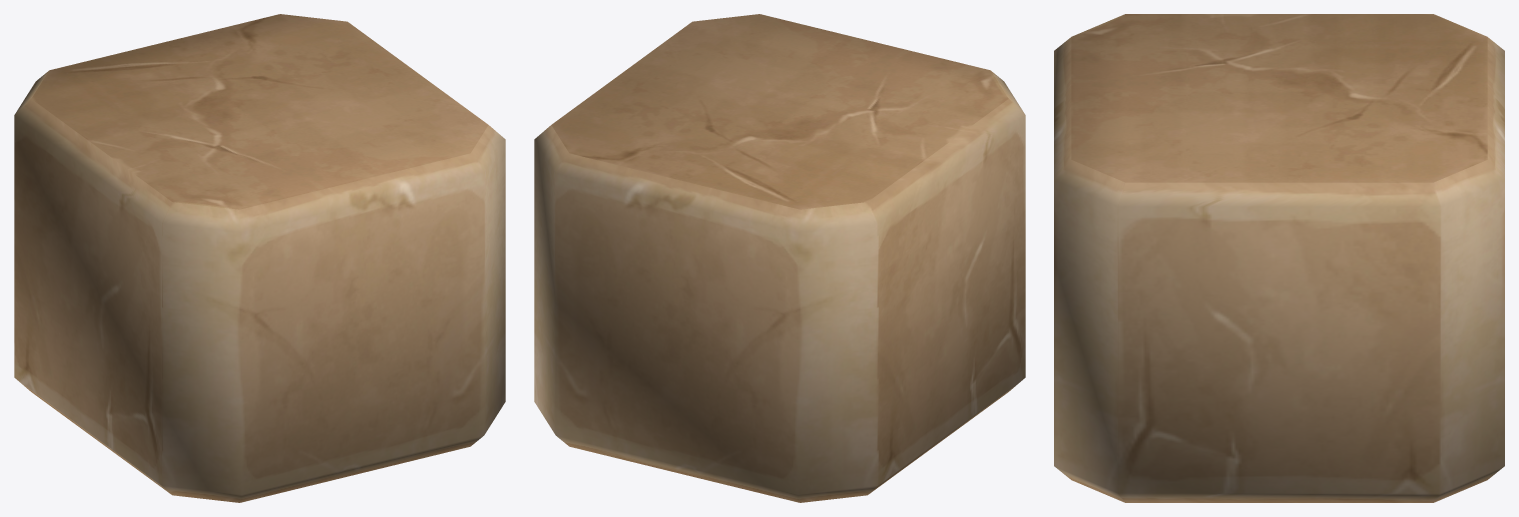
File: DE_House_Mod_Part_65.fbx
3 views of the same model, side by side, from view 1: azimuth 30°, elevation 25°; view 2: azimuth 150°, elevation 25°; view 3: azimuth 270°, elevation 25° (orthographic). The views are drawn at different scales.
Visible parts, largest first — view 1: DE_House_Mod_Part_65; view 2: DE_House_Mod_Part_65; view 3: DE_House_Mod_Part_65.
Boxes of the visible parts, x1=… form: DE_House_Mod_Part_65: x1=14, y1=14, x2=505, y2=502; DE_House_Mod_Part_65: x1=534, y1=14, x2=1025, y2=502; DE_House_Mod_Part_65: x1=1054, y1=14, x2=1504, y2=502.
Size of the model in its own units: 0.6186 by 0.5043 by 0.6429.
